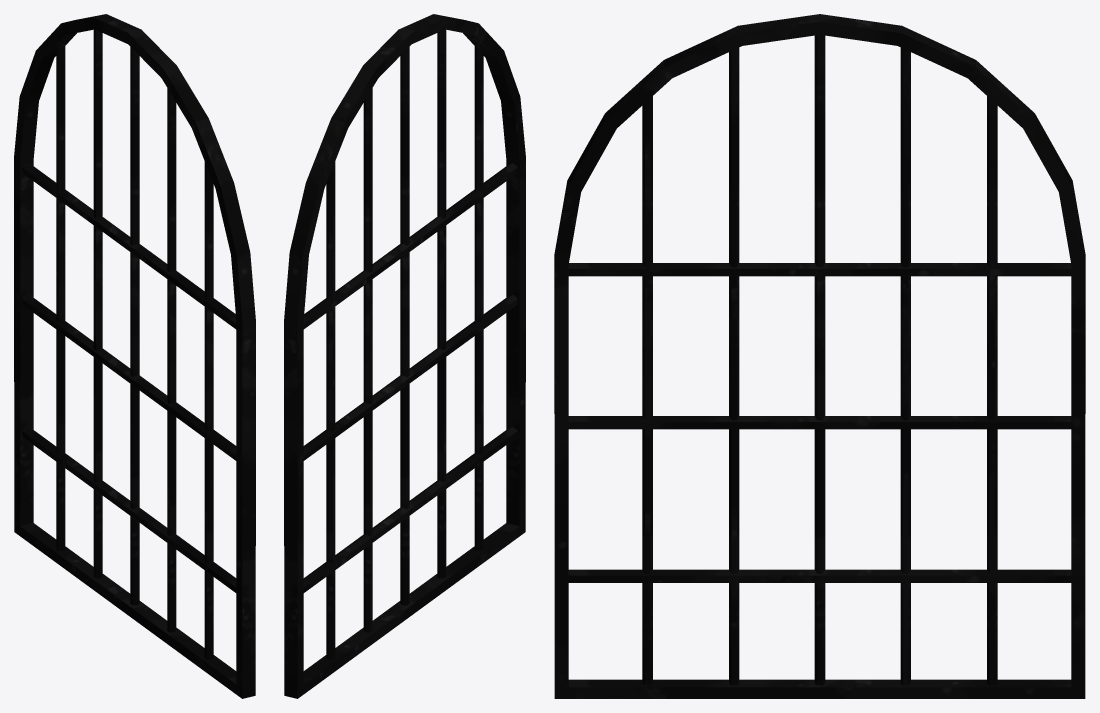
Rendered from gen_gate_2.fbx.
The picture shows the model from 3 angles, left to right: view 1: azimuth 30°, elevation 25°; view 2: azimuth 150°, elevation 25°; view 3: azimuth 270°, elevation 25°; orthographic projection. The views are drawn at different scales.
Visible parts, largest first — view 1: gen_gate_2; view 2: gen_gate_2; view 3: gen_gate_2.
Boxes of the visible parts, x1,y1,x2,y2 form: gen_gate_2: [14, 14, 255, 698]; gen_gate_2: [284, 14, 525, 698]; gen_gate_2: [554, 14, 1085, 698].
Size of the model in its own units: 27.19 by 1127 by 801.
